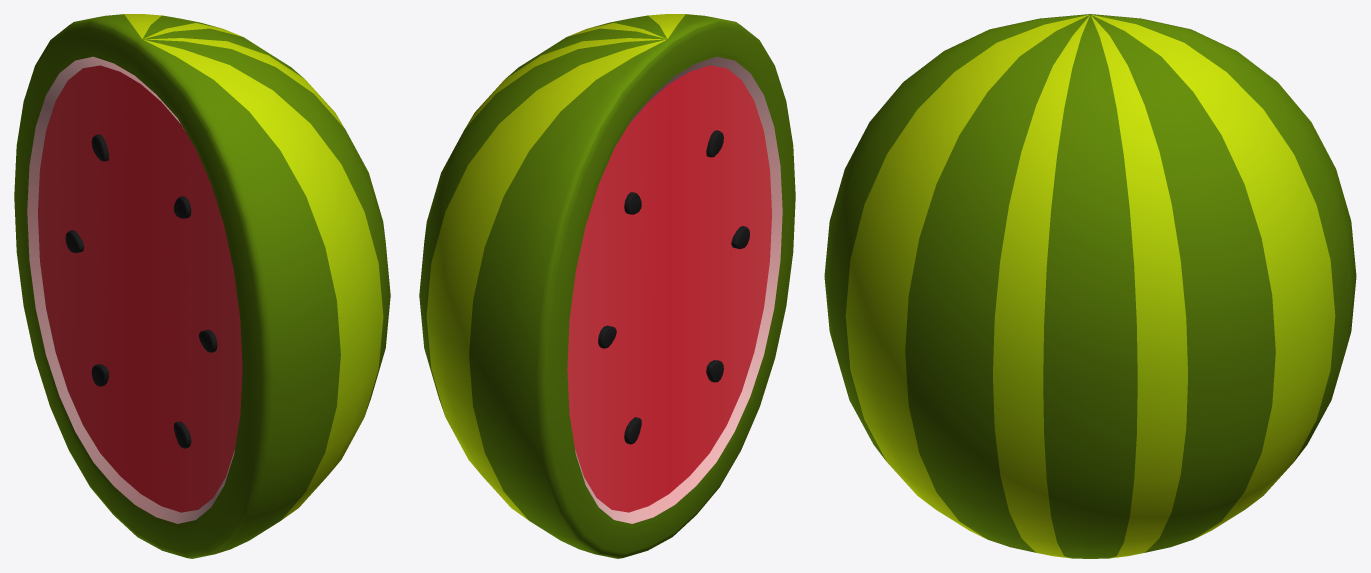
The model's file is Watermelon_V1_01.fbx.
3 views of the same model, side by side, from view 1: azimuth 30°, elevation 25°; view 2: azimuth 150°, elevation 25°; view 3: azimuth 270°, elevation 25° (orthographic). The views are drawn at different scales.
Parts seen in each view (by area): view 1: Watermelon_V1_01; view 2: Watermelon_V1_01; view 3: Watermelon_V1_01.
Boxes of the visible parts, x1,y1,x2,y2 form: Watermelon_V1_01: (14, 14, 390, 558); Watermelon_V1_01: (419, 14, 795, 558); Watermelon_V1_01: (824, 14, 1356, 558).
Size of the model in its own units: 30.77 by 66.27 by 61.45.
